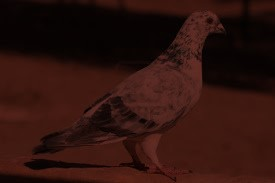pigeon: (28, 7, 228, 182)
